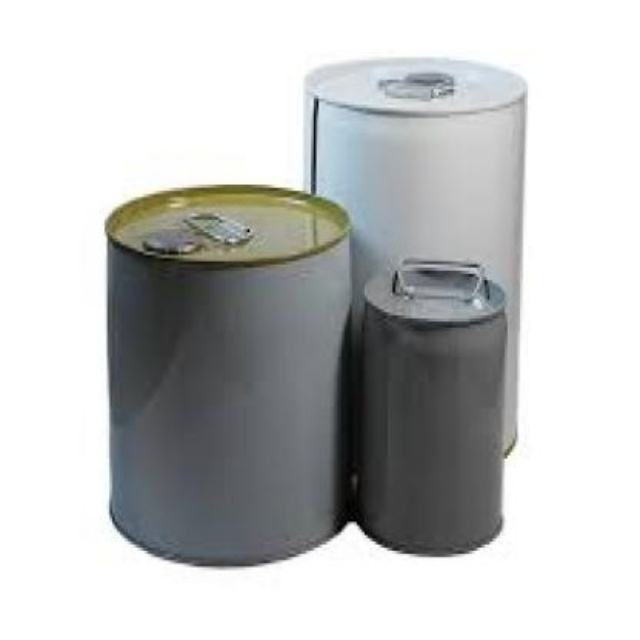trash: (306, 58, 525, 552), (106, 185, 351, 563), (358, 258, 506, 552)
